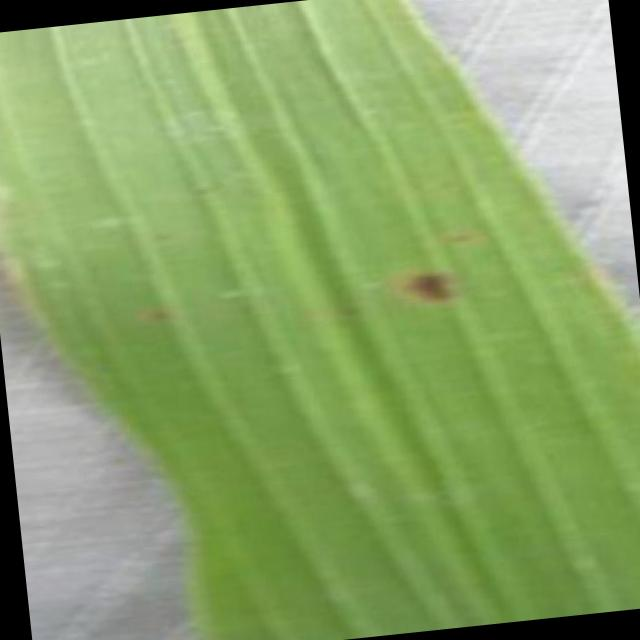Rice_Brownspot: (390, 258, 462, 312), (180, 174, 222, 202), (138, 298, 179, 326), (441, 223, 480, 250), (424, 166, 457, 197), (326, 296, 361, 322), (142, 222, 172, 246)
